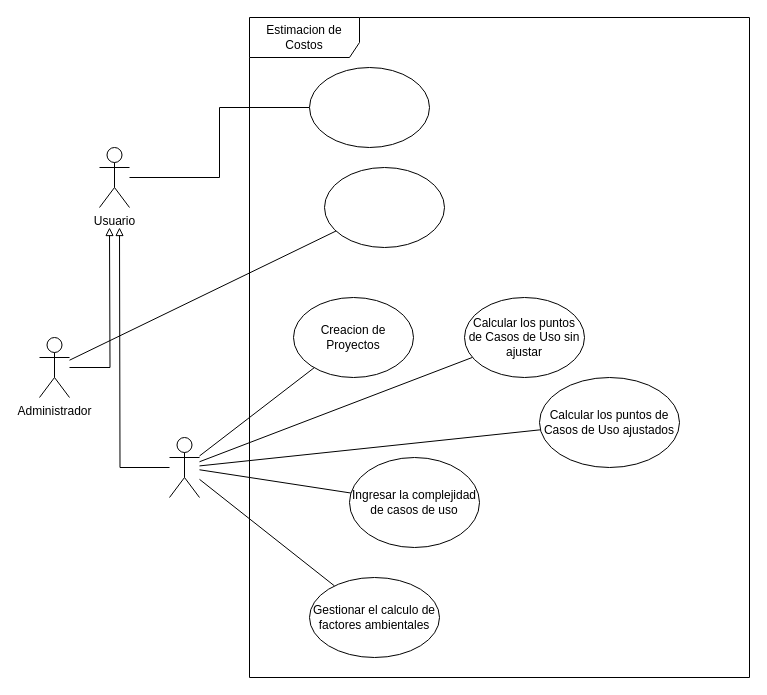
Some shapes in this 767 by 695 pixel diagram are drawn without their labels. Each missing label, with the centre of its shape:
Estudiante: [184,467]
Gestion de Cuentas: [384,207]
Login: [369,107]
